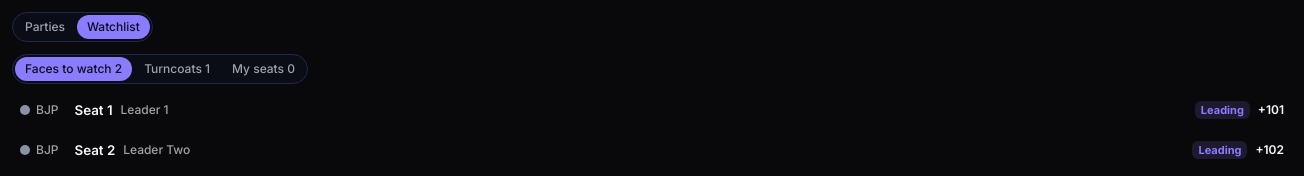
Test case: Watchlist tab: one sub-tab per manifest watchlist, then My seats › switching to another manifest list shows its people
The width and height of the screenshot is (1304, 176).
Click the radio button labelled "Turncoats 1" at (177, 69), box [134, 57, 220, 81]
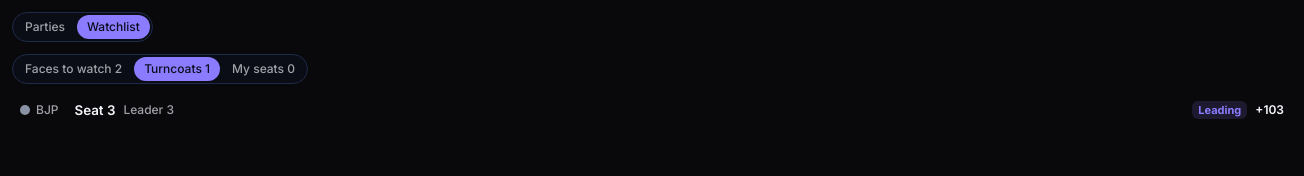
Expected: the text "Leader 3" is shown, [123, 102, 174, 117]
Expected: the button "Leader 1" is gone
